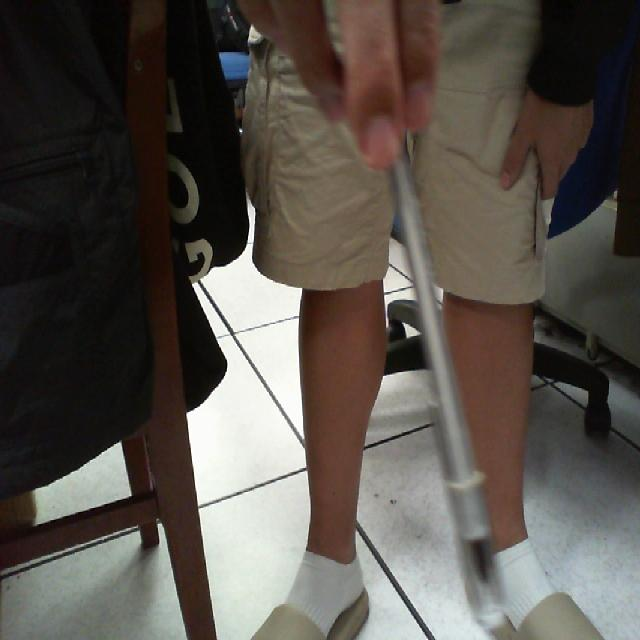Pen: (375, 108, 527, 640)
